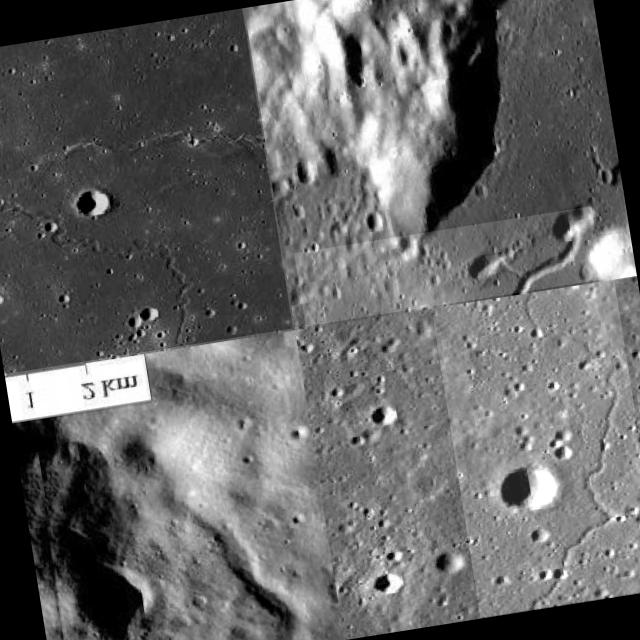rille: (0, 8, 293, 374), (432, 279, 640, 617), (294, 206, 603, 326), (167, 455, 342, 640)
